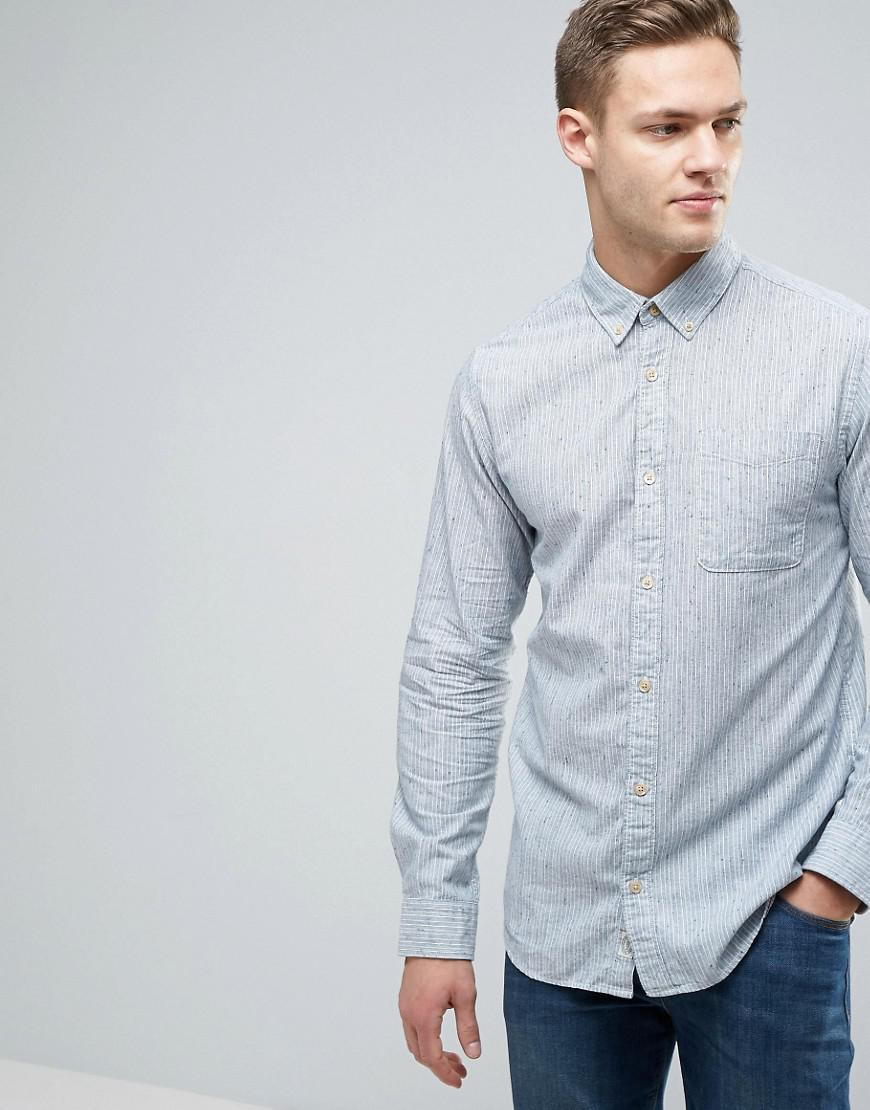teeshirt: (388, 244, 870, 986)
